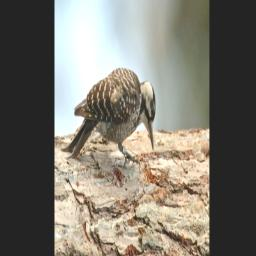Woodpecker: (61, 64, 158, 172)
